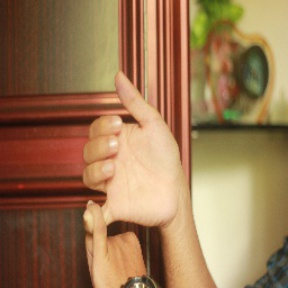S: (67, 68, 181, 285)
